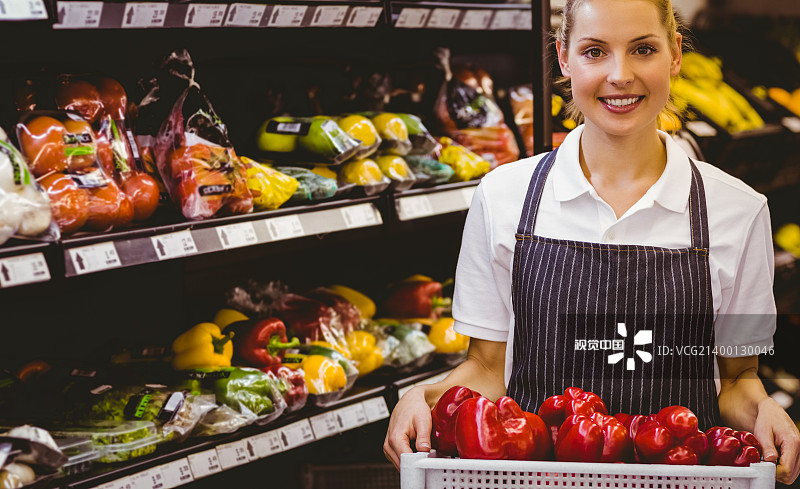no-phone: (370, 374, 442, 475), (745, 395, 800, 489)
